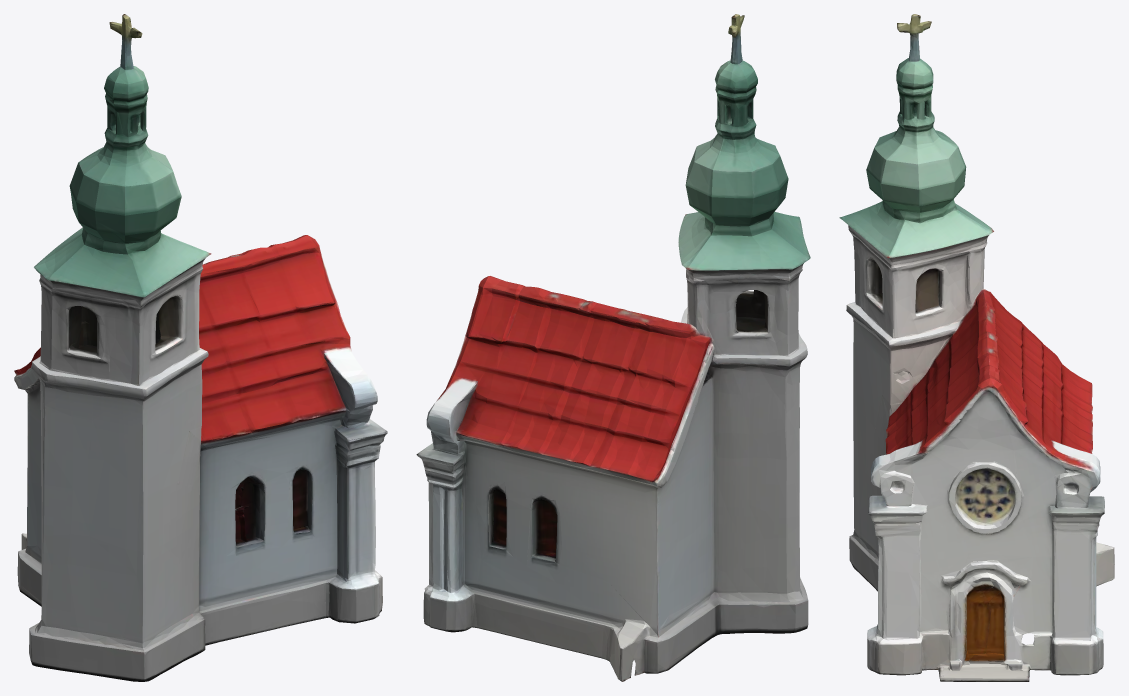
The model's file is salzburg_baroque_chappel.glb.
3 renders of one model, left to right at view 1: azimuth 30°, elevation 25°; view 2: azimuth 150°, elevation 25°; view 3: azimuth 270°, elevation 25°, orthographic. The views are drawn at different scales.
Parts seen in each view (by area): view 1: geometry_0; view 2: geometry_0; view 3: geometry_0.
Part boxes in pixels (left/top/right/bottom): geometry_0: left=14, top=14, right=387, bottom=681; geometry_0: left=416, top=14, right=810, bottom=681; geometry_0: left=839, top=14, right=1114, bottom=681.
Bounding box in the file's own units: 0.5566 × 1 × 0.4468.
1 material, 1 textured.
